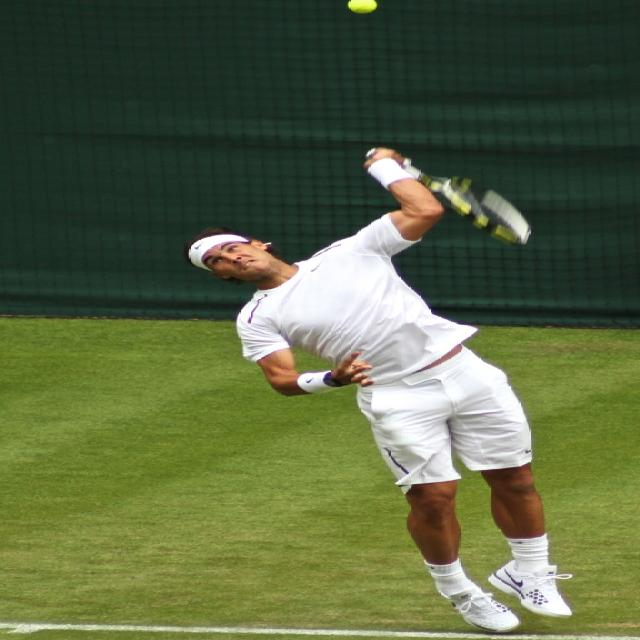Ball: (347, 0, 379, 15)
